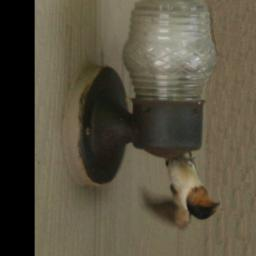Swallow: (139, 151, 220, 232)
